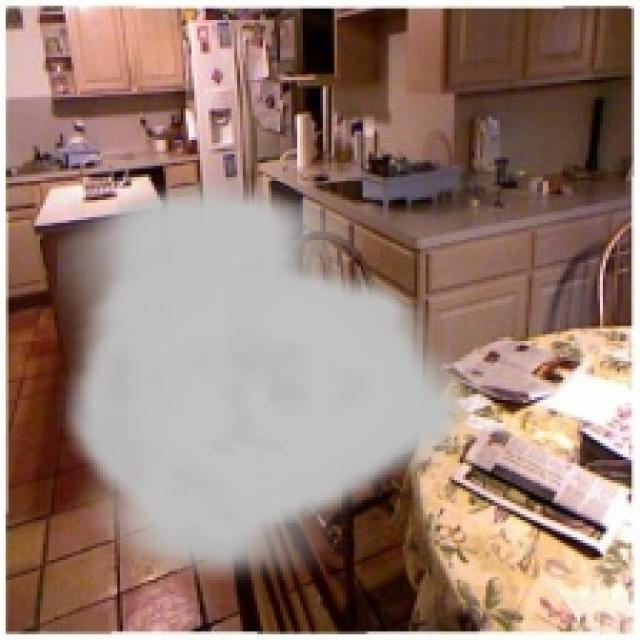Smoke: (57, 177, 477, 592)
